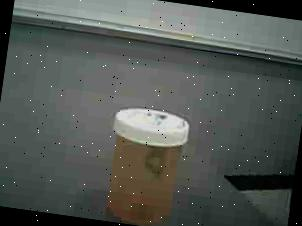Bottle B: (96, 101, 196, 226)
